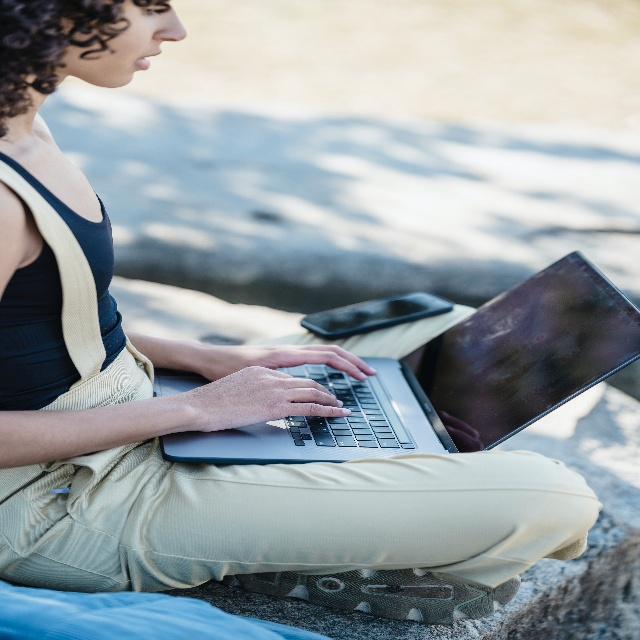Sin_guantes: (193, 369, 353, 430), (204, 336, 378, 379)
